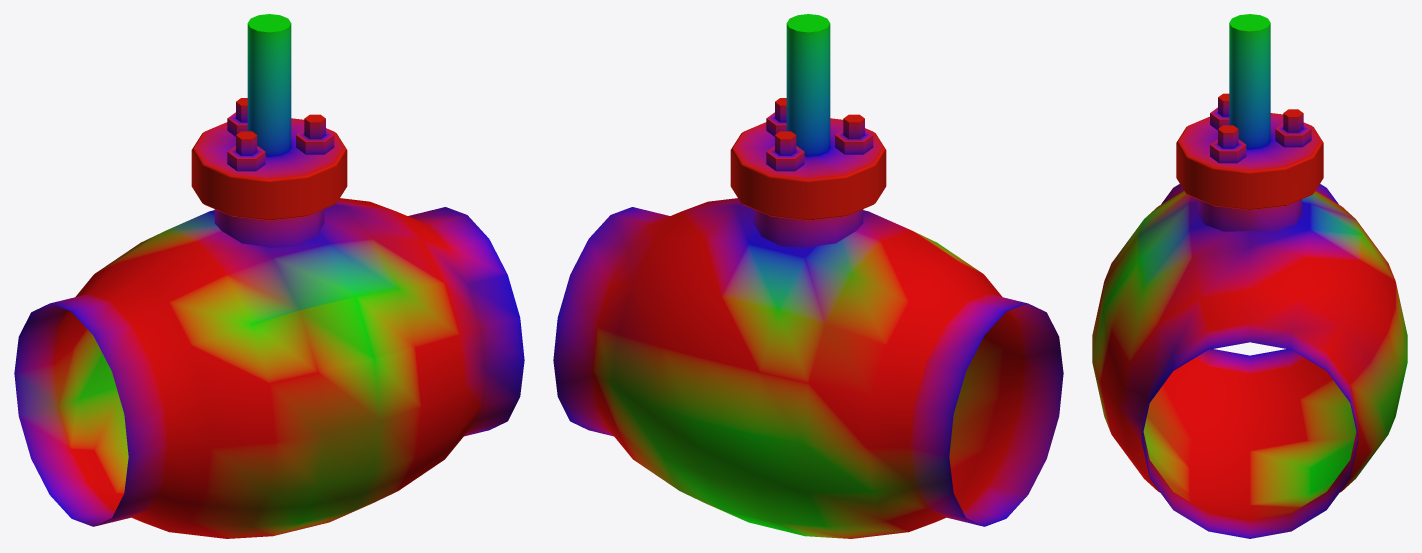
The model's file is PipaB_ValveA.fbx.
3 renders of one model, left to right at view 1: azimuth 30°, elevation 25°; view 2: azimuth 150°, elevation 25°; view 3: azimuth 270°, elevation 25°, orthographic. The views are drawn at different scales.
Parts seen in each view (by area): view 1: T3.000, T3.002; view 2: T3.000, T3.002; view 3: T3.000, T3.002.
Boxes of the visible parts, <box> form: T3.000: <box>14,198,524,538</box>; T3.002: <box>191,14,347,247</box>; T3.000: <box>553,198,1063,538</box>; T3.002: <box>730,14,886,247</box>; T3.000: <box>1092,184,1407,538</box>; T3.002: <box>1176,14,1323,231</box>.
Size of what is drawn, in the model's own units: 100 by 119 by 72.7.
